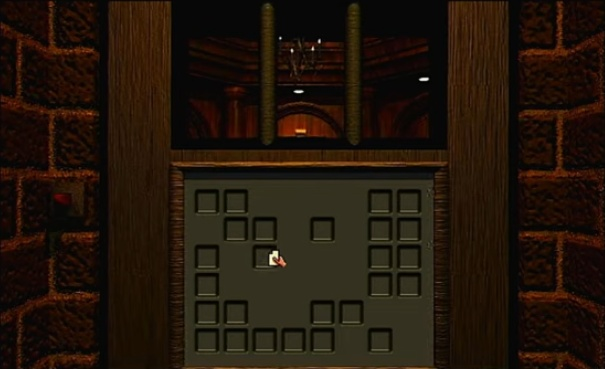Keep: (265, 247, 288, 269)
